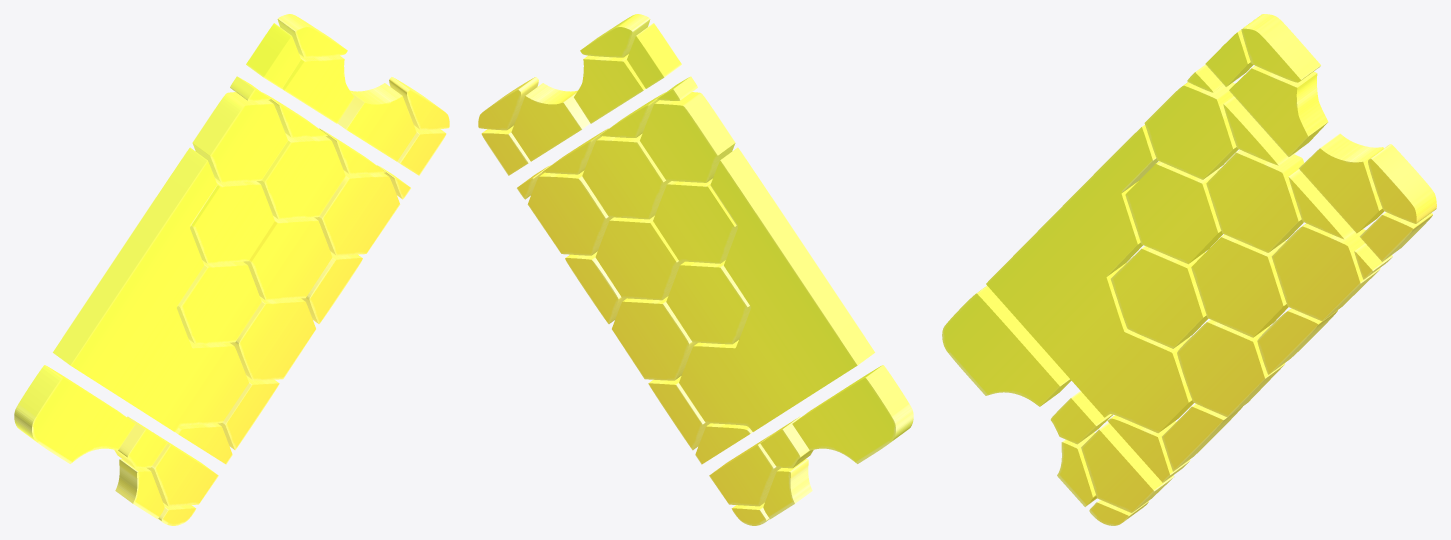
Rendered from GoldPass.glb.
3 renders of one model, left to right at view 1: azimuth 30°, elevation 25°; view 2: azimuth 150°, elevation 25°; view 3: azimuth 330°, elevation 25°, orthographic. The views are drawn at different scales.
Parts seen in each view (by area): view 1: Curve; view 2: Curve; view 3: Curve.
Part boxes in pixels (x1,y1,x2,y2): Curve: [14, 14, 449, 525]; Curve: [478, 14, 913, 525]; Curve: [942, 14, 1436, 525].
Bounding box in the file's own units: 3.2 × 3.42 × 0.2349.
Materials: 1 (1 with a texture image).
